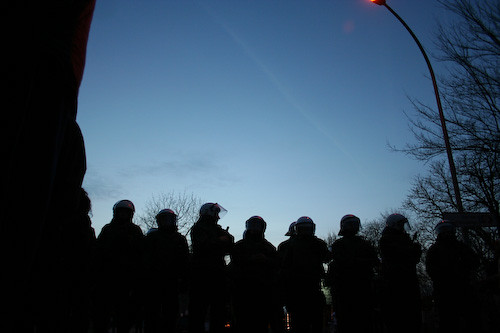policeman: (329, 213, 380, 329), (277, 212, 328, 328), (226, 214, 277, 330), (98, 198, 143, 314), (380, 213, 420, 330), (186, 204, 225, 322), (148, 202, 187, 320)
sky: (76, 1, 420, 204)
